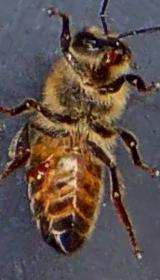varroa_mite: (23, 154, 52, 184)
